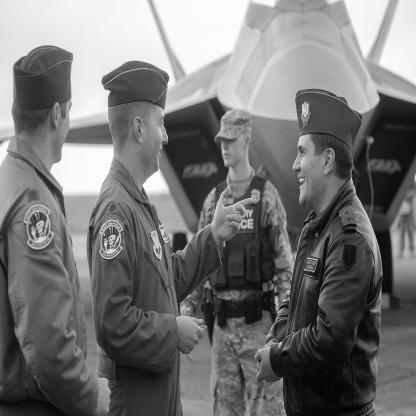F22: (1, 2, 416, 297)
